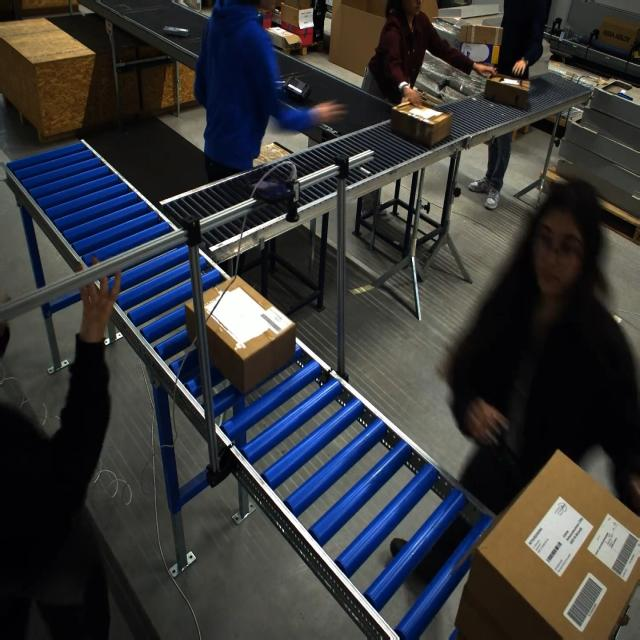box: (456, 453, 639, 639), (184, 275, 296, 395), (390, 99, 450, 147), (484, 73, 530, 110)
